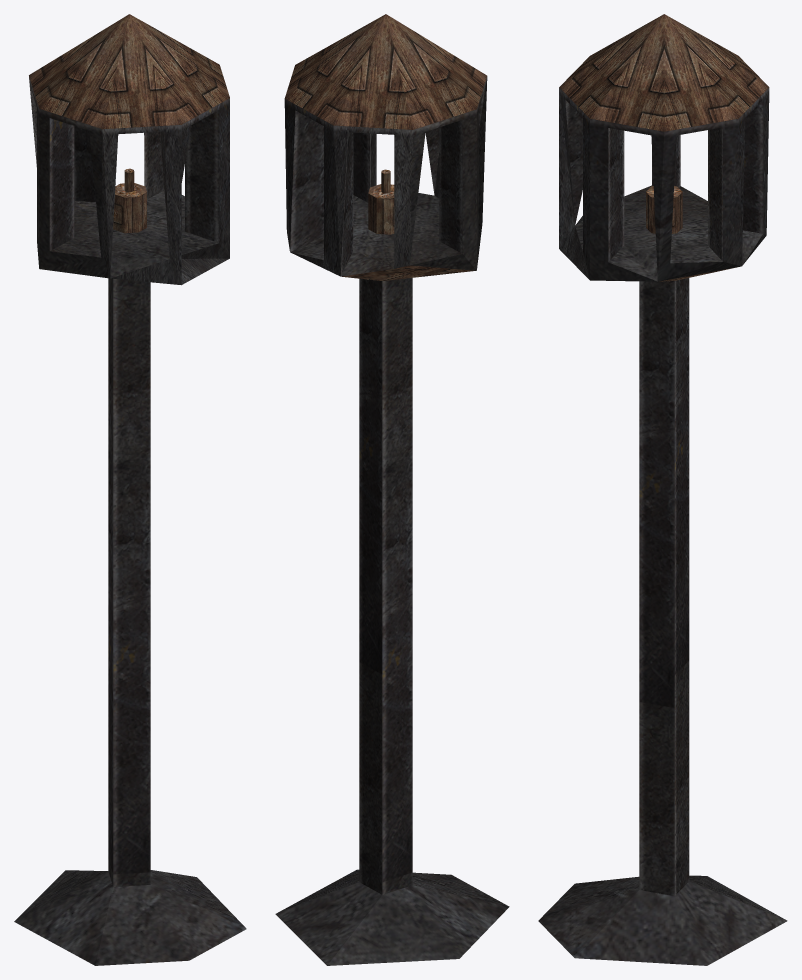
File: v3_lamp_LOD.dae
3 renders of one model, left to right at view 1: azimuth 30°, elevation 25°; view 2: azimuth 150°, elevation 25°; view 3: azimuth 270°, elevation 25°, orthographic.
Visible parts, largest first — view 1: Material; view 2: Material; view 3: Material.
Part boxes in pixels (x1,y1,x2,y2): Material: (14,14,246,965); Material: (275,14,509,965); Material: (538,14,787,965).
Bounding box in the file's own units: 0.2157 × 1.01 × 0.2507.
